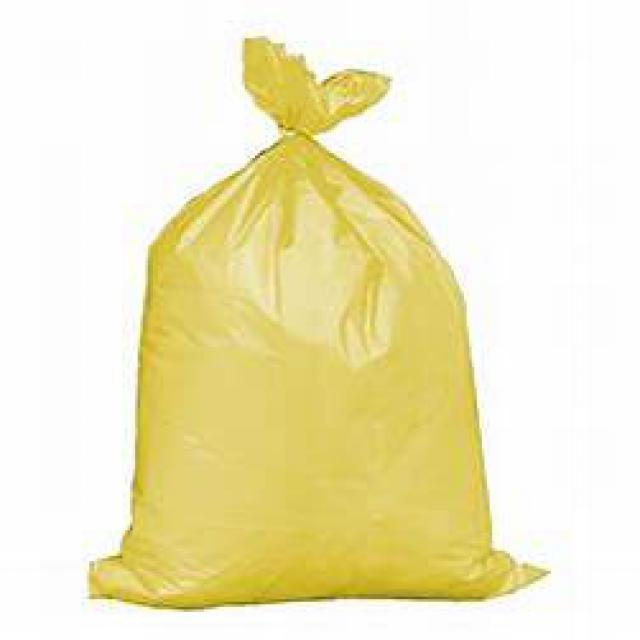waste: (102, 34, 530, 604)
